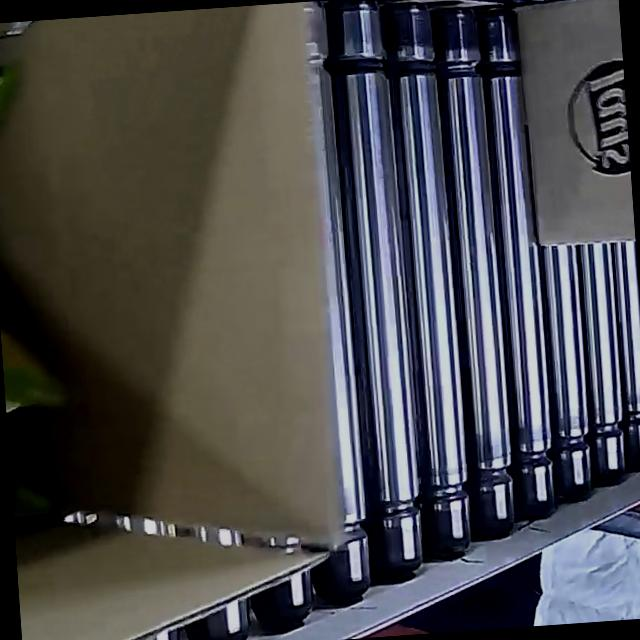yogurt: (0, 16, 119, 530)
